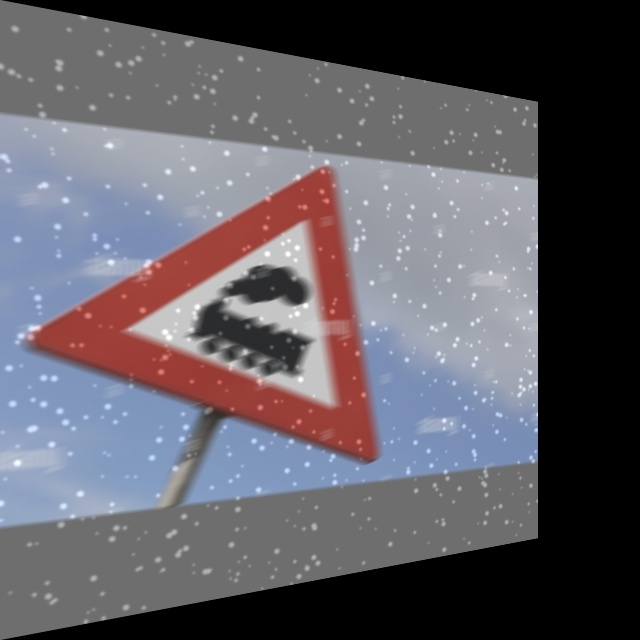Unguarded_Level_Crossing: (70, 140, 378, 448)
